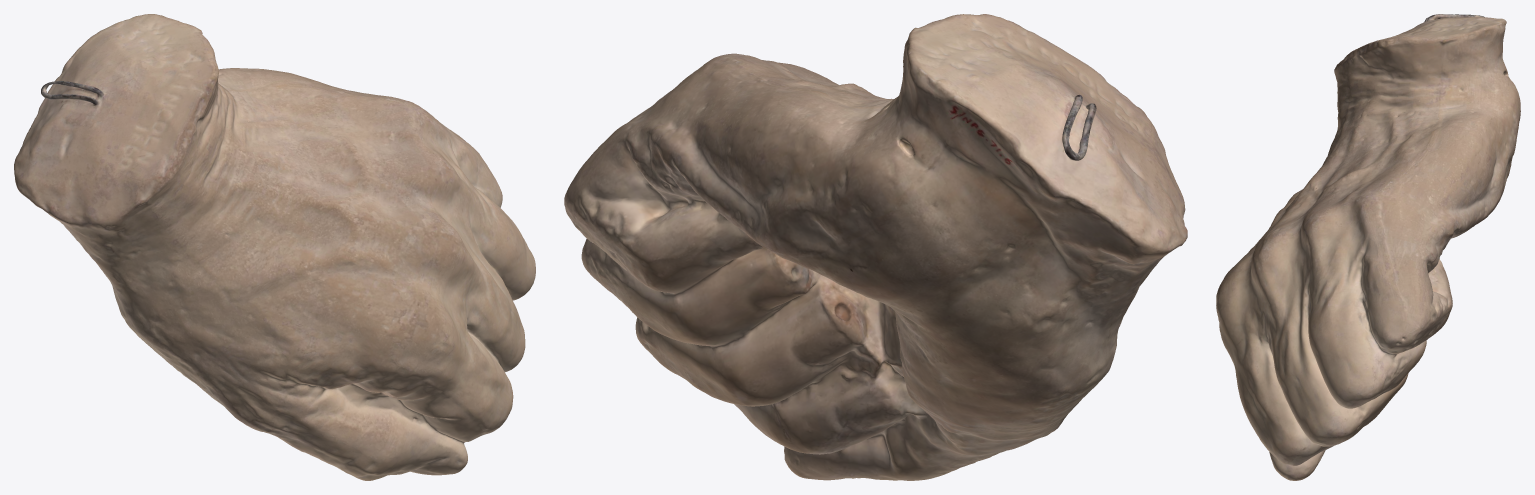
Rendered from npg_71_6_left-hires_unwrapped-150k-2048-medium.glb.
3 views of the same model, side by side, from view 1: azimuth 30°, elevation 25°; view 2: azimuth 150°, elevation 25°; view 3: azimuth 270°, elevation 25° (orthographic). The views are drawn at different scales.
Size of the model in its own units: 164 by 143 by 106.
Materials: 1 (1 with a texture image).
